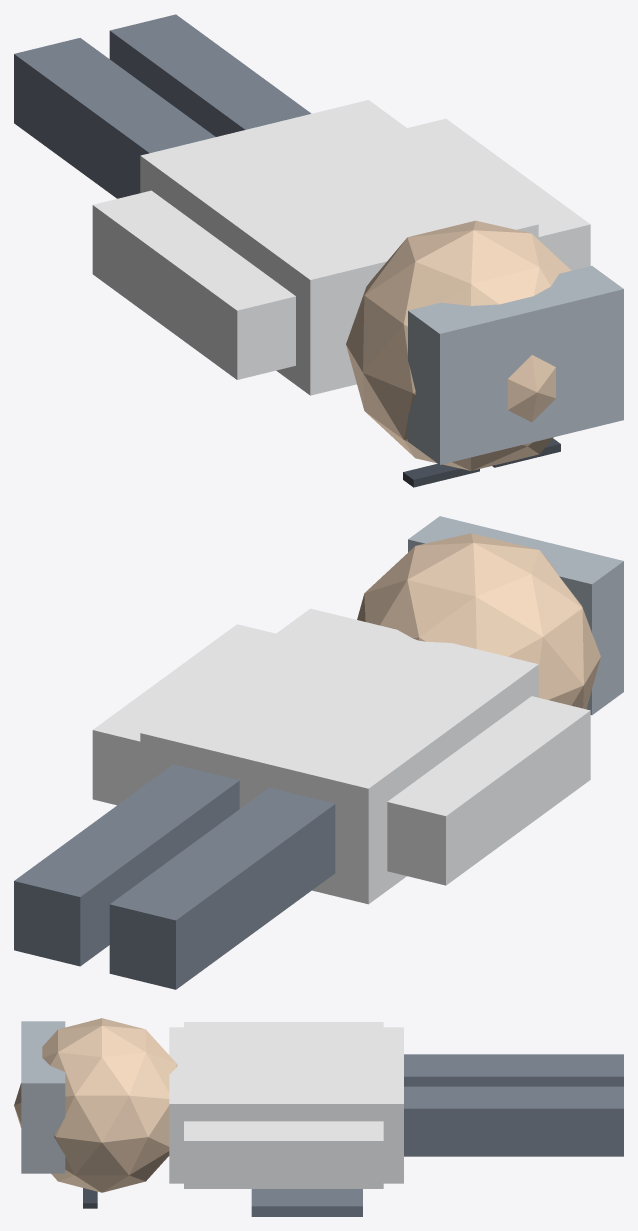
File: researcher_variant_5.glb
The picture shows the model from 3 angles, top to bottom: view 1: azimuth 30°, elevation 25°; view 2: azimuth 150°, elevation 25°; view 3: azimuth 270°, elevation 25°; orthographic projection. The views are drawn at different scales.
Parts seen in each view (by area): view 1: torso_2, hair_6, head_5, arm_l_3, leg_l_0, leg_r_1, arm_r_4, glasses_l_7; view 2: torso_2, leg_l_0, head_5, arm_l_3, leg_r_1, arm_r_4, hair_6; view 3: torso_2, head_5, leg_r_1, arm_r_4, leg_l_0, hair_6, tablet_9, arm_l_3, glasses_r_8.
Boxes of the visible parts, x1=… form: torso_2: x1=140, y1=100, x2=538, y2=395; hair_6: x1=408, y1=266, x2=623, y2=464; head_5: x1=346, y1=220, x2=571, y2=470; arm_l_3: x1=92, y1=190, x2=295, y2=379; leg_l_0: x1=14, y1=38, x2=215, y2=198; leg_r_1: x1=109, y1=14, x2=311, y2=136; arm_r_4: x1=407, y1=118, x2=590, y2=270; glasses_l_7: x1=403, y1=463, x2=479, y2=487; torso_2: x1=140, y1=608, x2=538, y2=904; leg_l_0: x1=109, y1=787, x2=335, y2=989; head_5: x1=357, y1=533, x2=600, y2=709; arm_l_3: x1=387, y1=696, x2=590, y2=885; leg_r_1: x1=14, y1=764, x2=239, y2=966; arm_r_4: x1=92, y1=624, x2=275, y2=805; hair_6: x1=408, y1=516, x2=623, y2=715; torso_2: x1=169, y1=1027, x2=403, y2=1183; head_5: x1=14, y1=1018, x2=177, y2=1192; leg_r_1: x1=404, y1=1086, x2=623, y2=1156; arm_r_4: x1=184, y1=1121, x2=383, y2=1188; leg_l_0: x1=404, y1=1054, x2=623, y2=1086; hair_6: x1=21, y1=1021, x2=65, y2=1173; tablet_9: x1=251, y1=1189, x2=362, y2=1216; arm_l_3: x1=184, y1=1022, x2=383, y2=1027; glasses_r_8: x1=83, y1=1188, x2=97, y2=1208.
Bounding box in the file's own units: 0.96 × 0.6 × 2.08.
